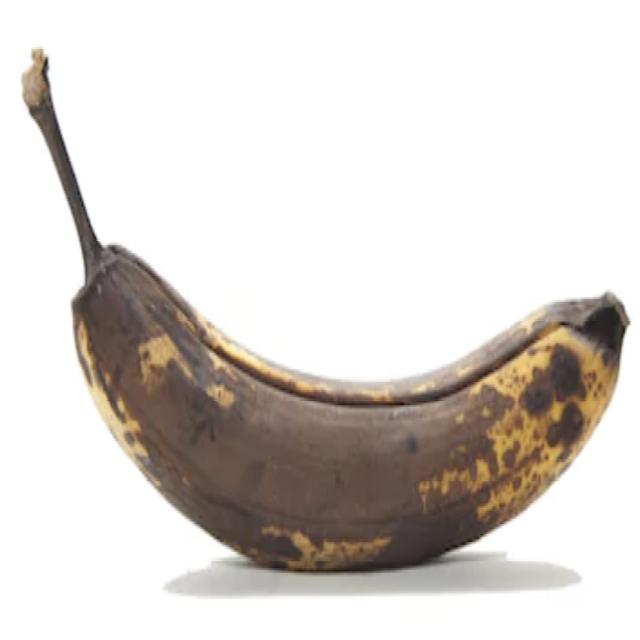rotten-banana: (20, 44, 630, 573)
